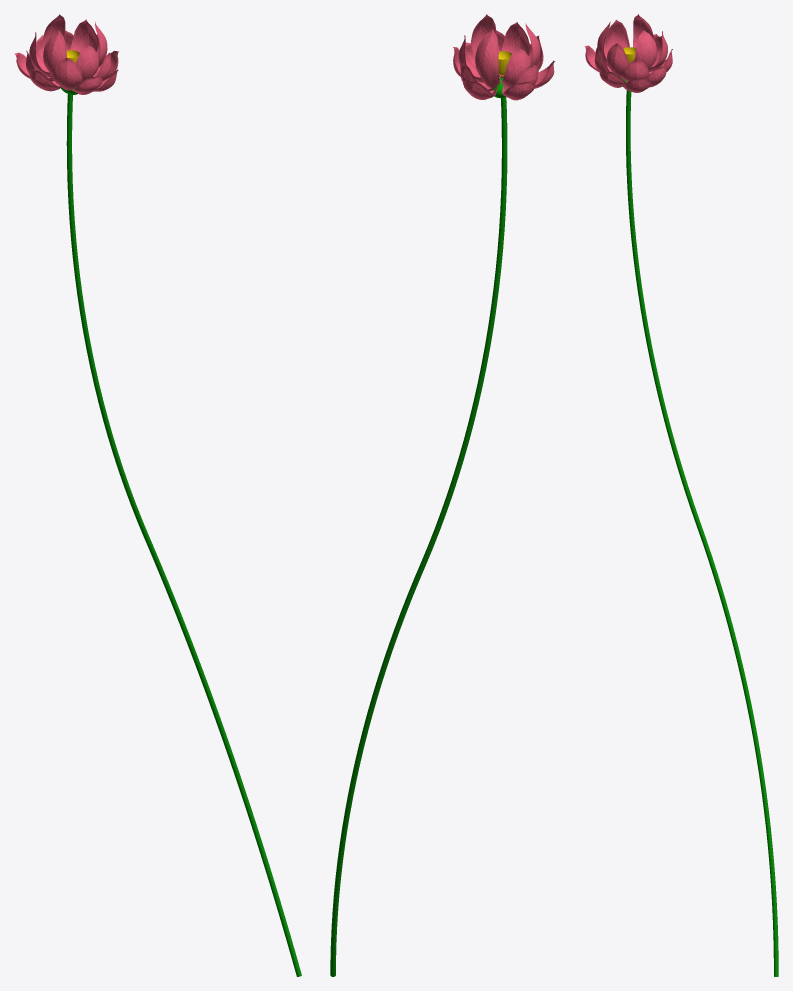
Rendered from Lotus058.fbx.
3 renders of one model, left to right at view 1: azimuth 30°, elevation 25°; view 2: azimuth 150°, elevation 25°; view 3: azimuth 330°, elevation 25°, orthographic. The views are drawn at different scales.
Visible parts, largest first — view 1: pCylinder5, nurbsToPoly16, nurbsToPoly21; view 2: pCylinder5, nurbsToPoly23, nurbsToPoly20, nurbsToPoly18; view 3: pCylinder5, nurbsToPoly22, nurbsToPoly18, nurbsToPoly20.
Part boxes in pixels (x1,y1,x2,y2): pCylinder5: [66, 94, 301, 976]; nurbsToPoly16: [52, 58, 82, 90]; nurbsToPoly21: [43, 30, 66, 76]; pCylinder5: [330, 97, 507, 976]; nurbsToPoly23: [475, 29, 500, 88]; nurbsToPoly20: [500, 48, 530, 88]; nurbsToPoly18: [499, 22, 529, 79]; pCylinder5: [626, 90, 778, 976]; nurbsToPoly22: [634, 30, 657, 70]; nurbsToPoly18: [606, 43, 628, 78]; nurbsToPoly20: [605, 20, 629, 51].
Bounding box in the file's own units: 52.49 × 204 × 24.36.
